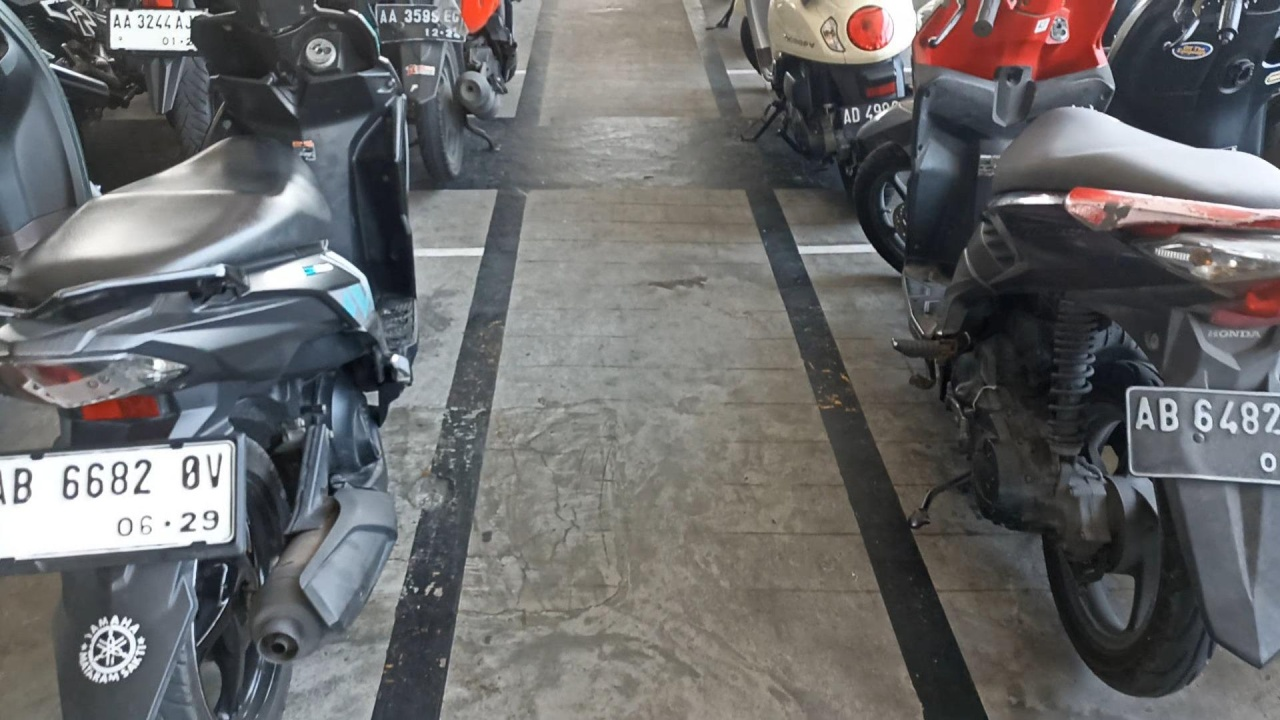plate: (0, 438, 239, 565), (375, 4, 466, 43)
